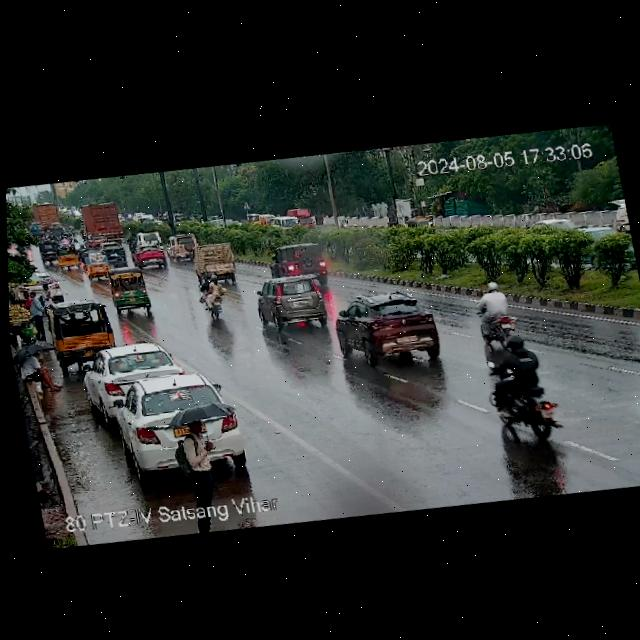car: (107, 365, 238, 485), (327, 281, 451, 373), (81, 335, 183, 414), (250, 270, 330, 340), (46, 297, 120, 365), (264, 237, 332, 292), (108, 263, 157, 316), (164, 230, 204, 265), (397, 211, 442, 234), (134, 244, 169, 270), (84, 247, 110, 281), (102, 240, 129, 264), (39, 239, 63, 265), (55, 249, 82, 272)
motorcycle: (480, 329, 565, 453), (466, 273, 525, 352), (197, 266, 230, 322), (57, 231, 73, 253), (126, 232, 137, 252)
person: (171, 399, 226, 507), (14, 347, 57, 400), (25, 287, 51, 339)
truck: (187, 238, 244, 287), (80, 202, 124, 244)
